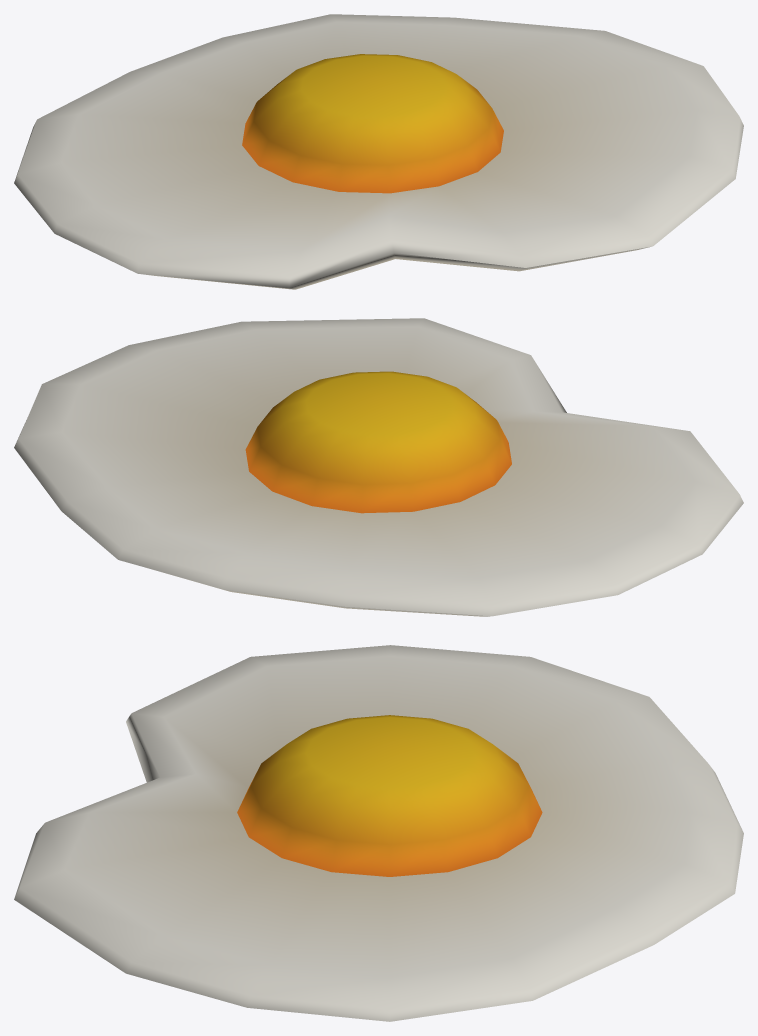
3 renders of one model, top to bottom at view 1: azimuth 30°, elevation 25°; view 2: azimuth 150°, elevation 25°; view 3: azimuth 270°, elevation 25°, orthographic. The views are drawn at different scales.
Visible parts, largest first — view 1: alt2.005; view 2: alt2.005; view 3: alt2.005.
Boxes of the visible parts, box(x1,y1,x2,y2) form: alt2.005: box(14, 14, 743, 289); alt2.005: box(14, 318, 743, 616); alt2.005: box(14, 645, 743, 1021).
Size of the model in its own units: 0.5 by 0.0621 by 0.419.
